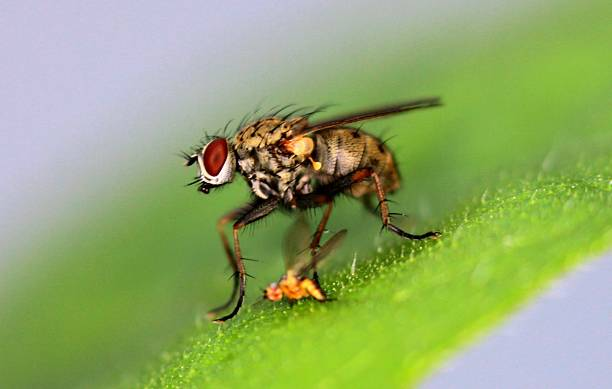Fruit fly: (150, 86, 468, 271)
